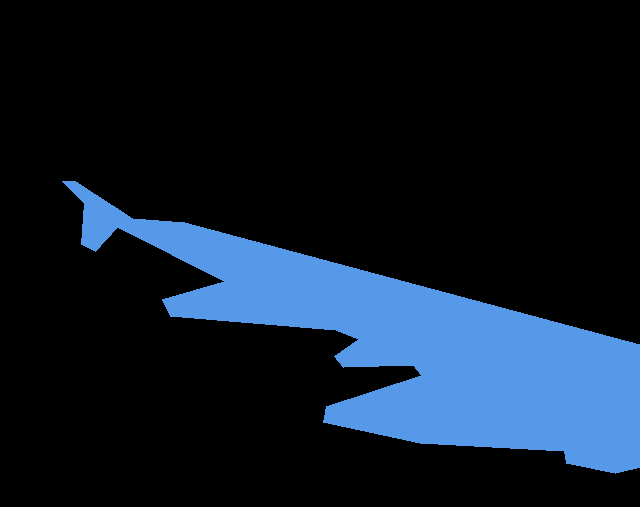Airplane: (62, 181, 640, 474)
